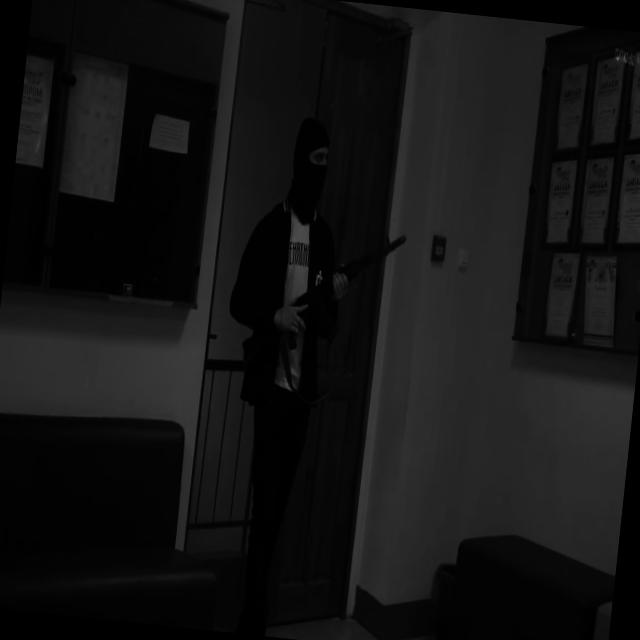gun: (238, 217, 407, 386)
person with a gun: (195, 109, 418, 640)
